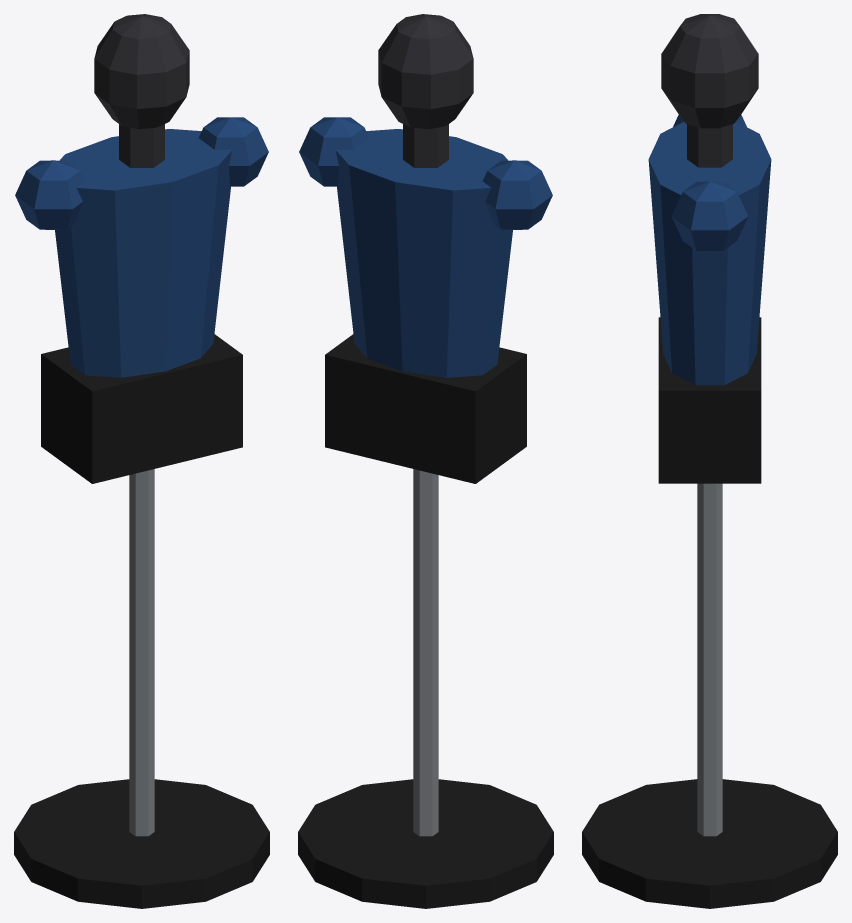
Rendered from mannequin_dark.glb.
The picture shows the model from 3 angles, left to right: view 1: azimuth 30°, elevation 25°; view 2: azimuth 150°, elevation 25°; view 3: azimuth 270°, elevation 25°; orthographic projection.
Visible parts, largest first — view 1: mannequin_dark; view 2: mannequin_dark; view 3: mannequin_dark.
Boxes of the visible parts, box(x1,y1,x2,y2) form: mannequin_dark: box(14, 14, 269, 908); mannequin_dark: box(298, 14, 553, 908); mannequin_dark: box(582, 14, 837, 908).
Bounding box in the file's own units: 0.5299 × 1.81 × 0.5.
